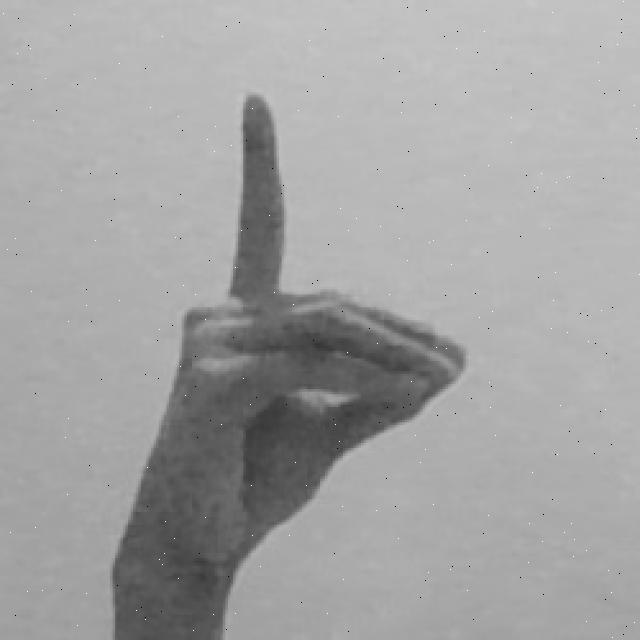D: (111, 87, 468, 640)
